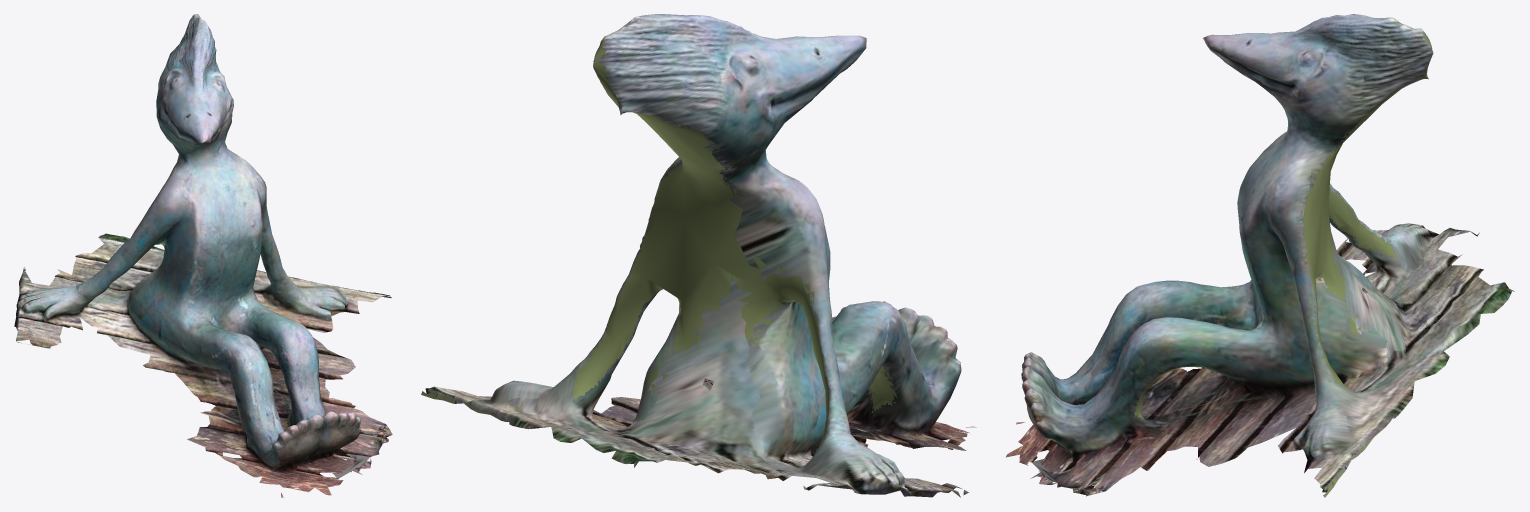
Rendered from geinVogel1.glb.
3 renders of one model, left to right at view 1: azimuth 30°, elevation 25°; view 2: azimuth 150°, elevation 25°; view 3: azimuth 270°, elevation 25°, orthographic. The views are drawn at different scales.
Parts seen in each view (by area): view 1: geinVogel1; view 2: geinVogel1; view 3: geinVogel1.
Boxes of the visible parts, x1,y1,x2,y2 form: geinVogel1: [14, 14, 392, 497]; geinVogel1: [421, 14, 976, 497]; geinVogel1: [1005, 14, 1514, 497].
Bounding box in the file's own units: 17.89 × 16.97 × 17.31.
1 material, 1 textured.
